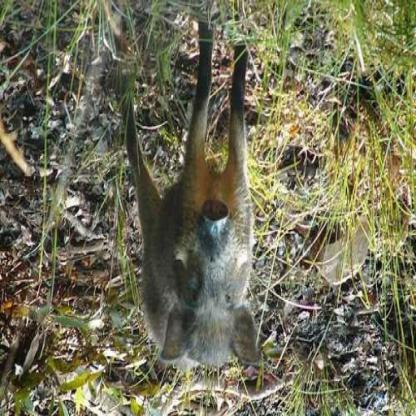boar: (111, 62, 278, 374)
